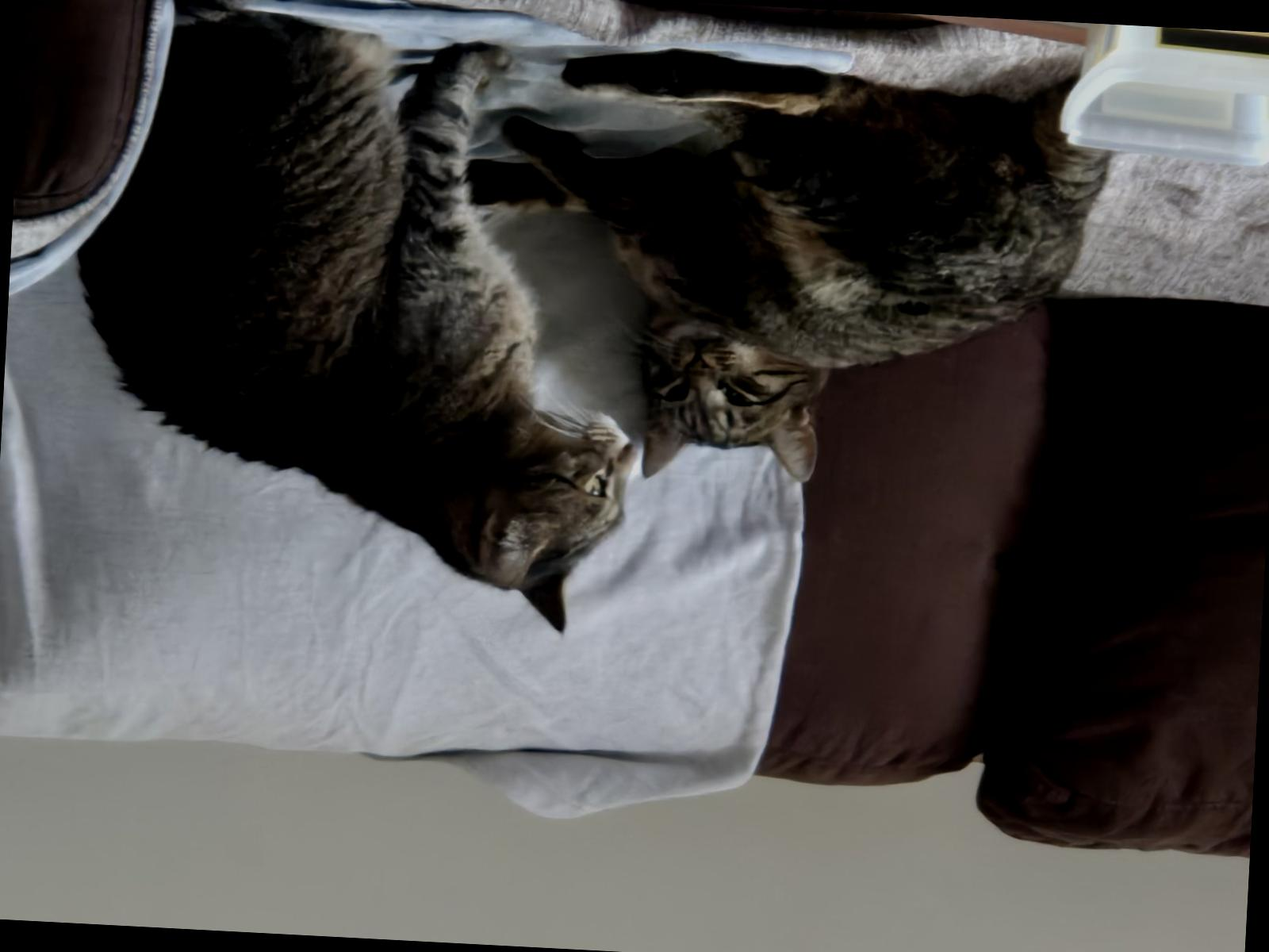macka: (54, 2, 661, 634), (457, 41, 1116, 503)
